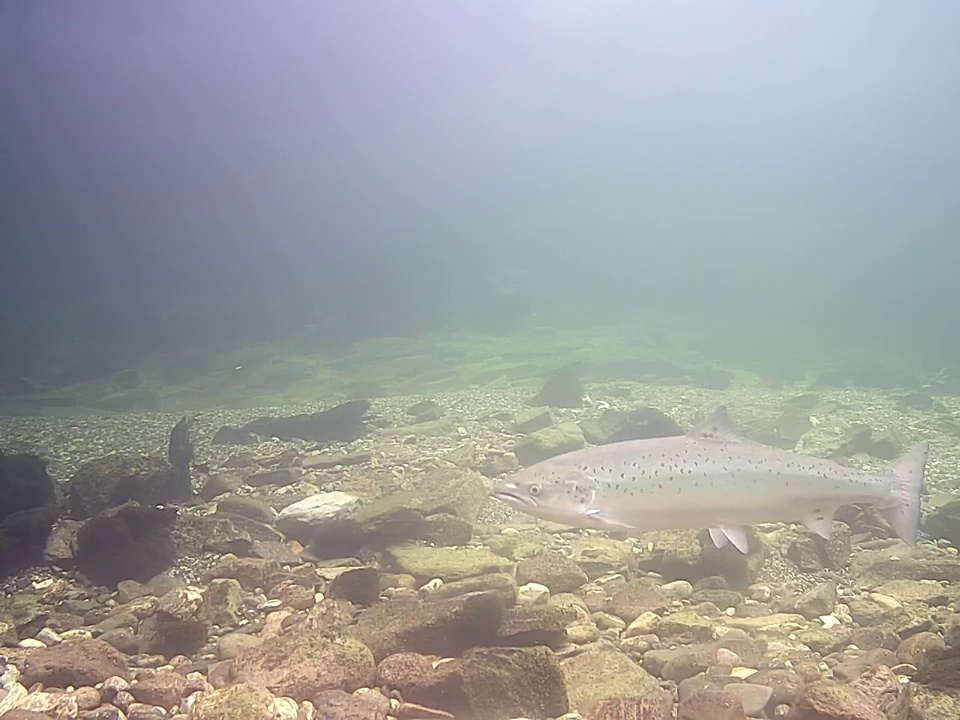salmon: (489, 403, 933, 556)
